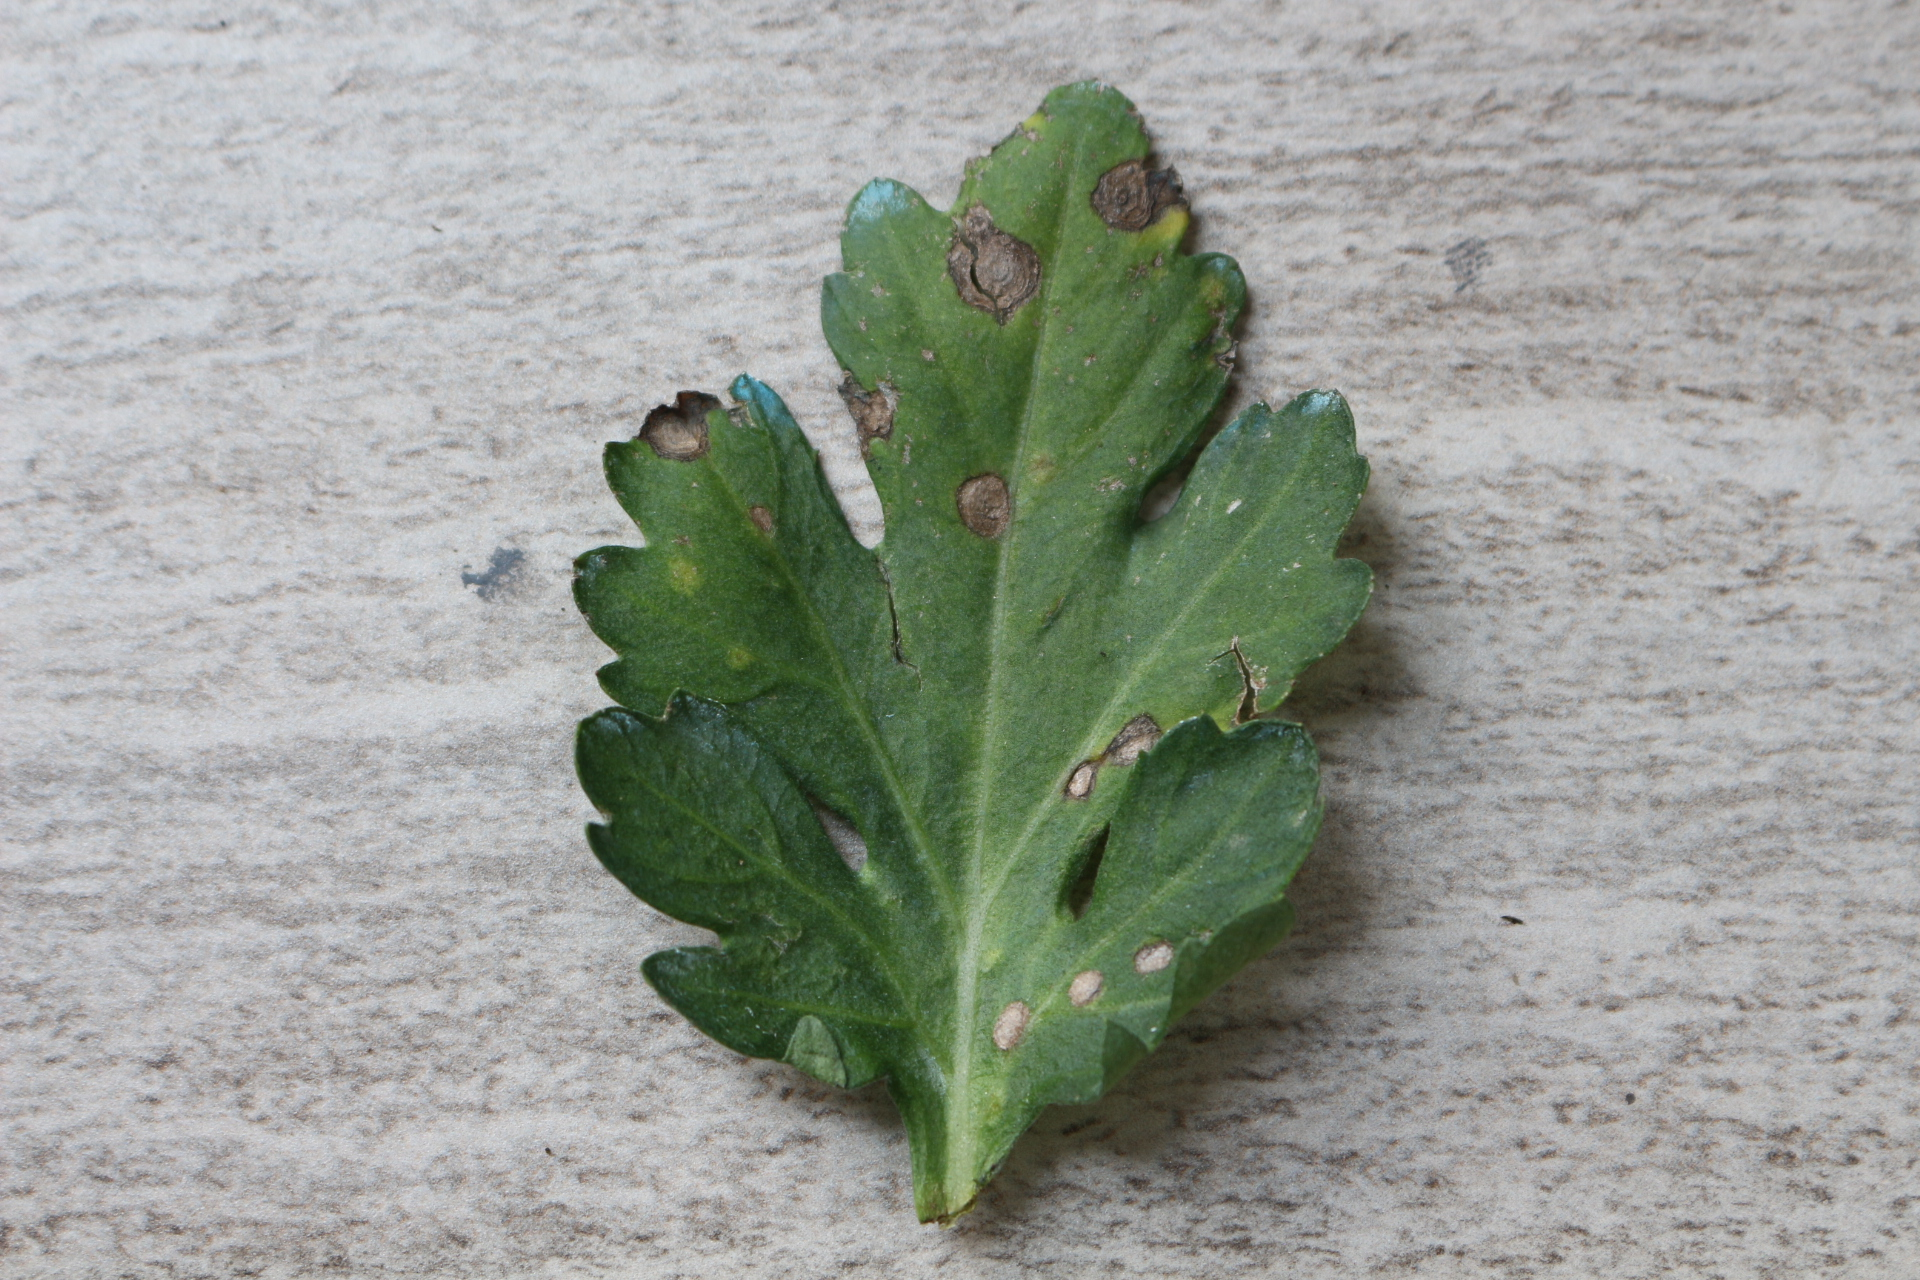namden: (947, 211, 1059, 323), (1091, 160, 1160, 237), (949, 467, 1019, 536), (987, 991, 1033, 1049), (1063, 967, 1110, 1011), (1130, 941, 1180, 979), (1060, 757, 1104, 799), (751, 500, 791, 541)
namsung: (660, 550, 714, 597), (720, 641, 760, 674)
